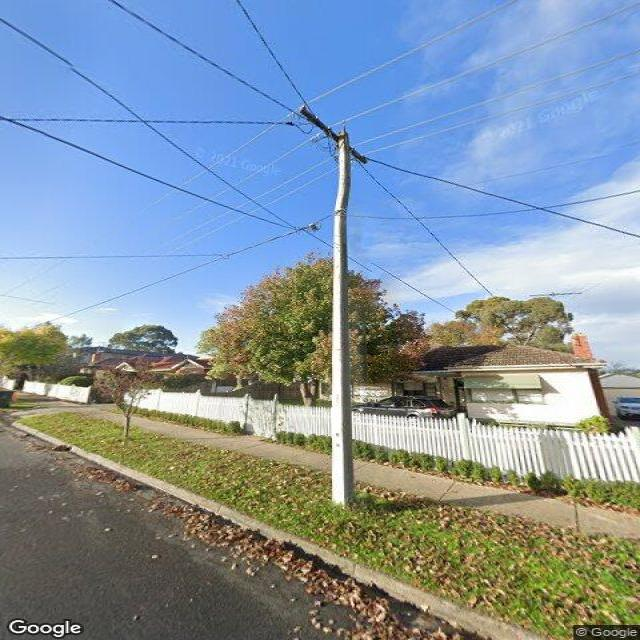crossarm: (294, 102, 370, 165)
timber-pole: (334, 127, 357, 508)
